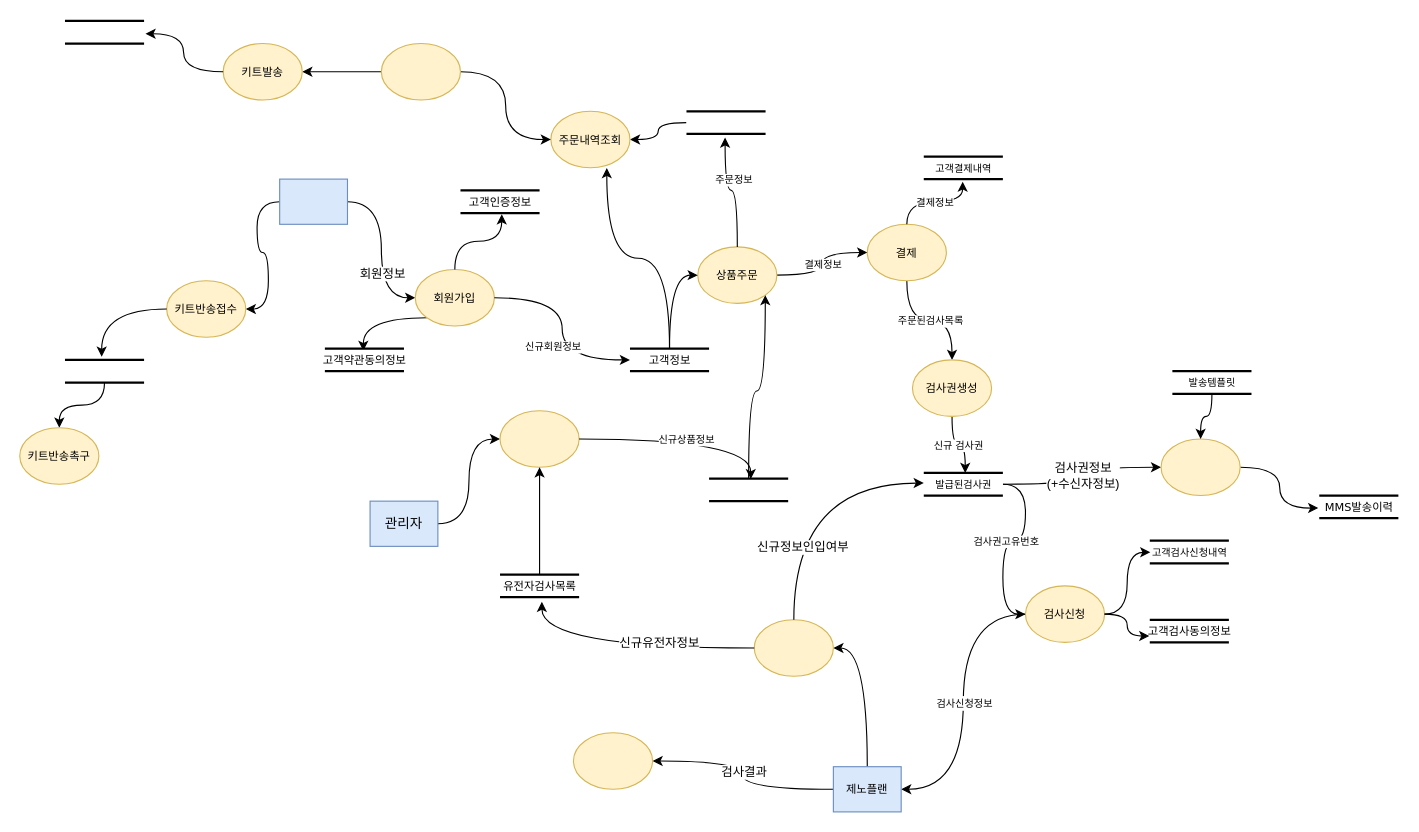
Image size: 1419x832. Some labels were removed from this diagram. The shapes that lost their labels are listed below. From the top down, each one's box as (x1, y1, x2, y2) in pixels, then its label:
(63, 19, 145, 44): 고객키트배송정보
(380, 42, 460, 100): 키트발송여부검토
(685, 110, 766, 134): 고객주문내역
(279, 178, 347, 224): 고객
(63, 358, 145, 383): 고객키트반송정보
(499, 410, 579, 467): 신규상품등록
(1160, 438, 1240, 496): 알림톡발송
(707, 477, 789, 502): 상품
(753, 619, 833, 676): 유전자정보 업데이트
(572, 732, 653, 789): 검사결과조회
